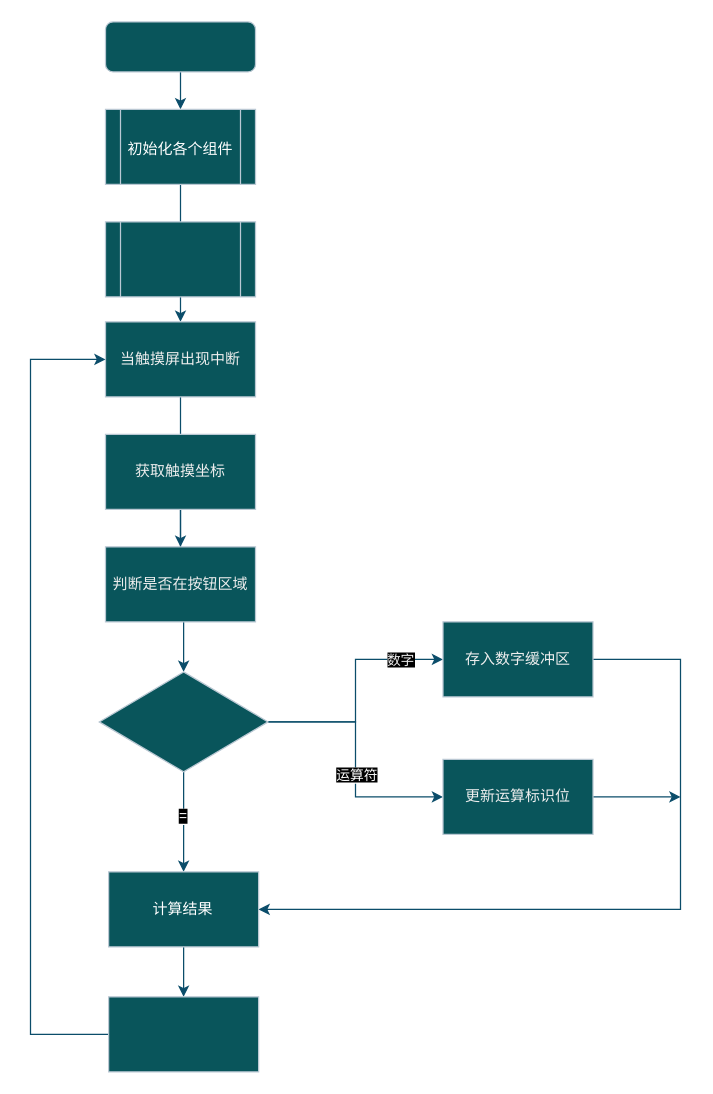
This 713x1094 diagram has some shape labels left out. Here are the shapes that lost their labels. From the top down, the centre of each, then its label:
At point (180, 46): "Start".
At point (180, 259): "绘制UI界面".
At point (183, 721): "判断输入类型".
At point (183, 1034): "显示结果".
